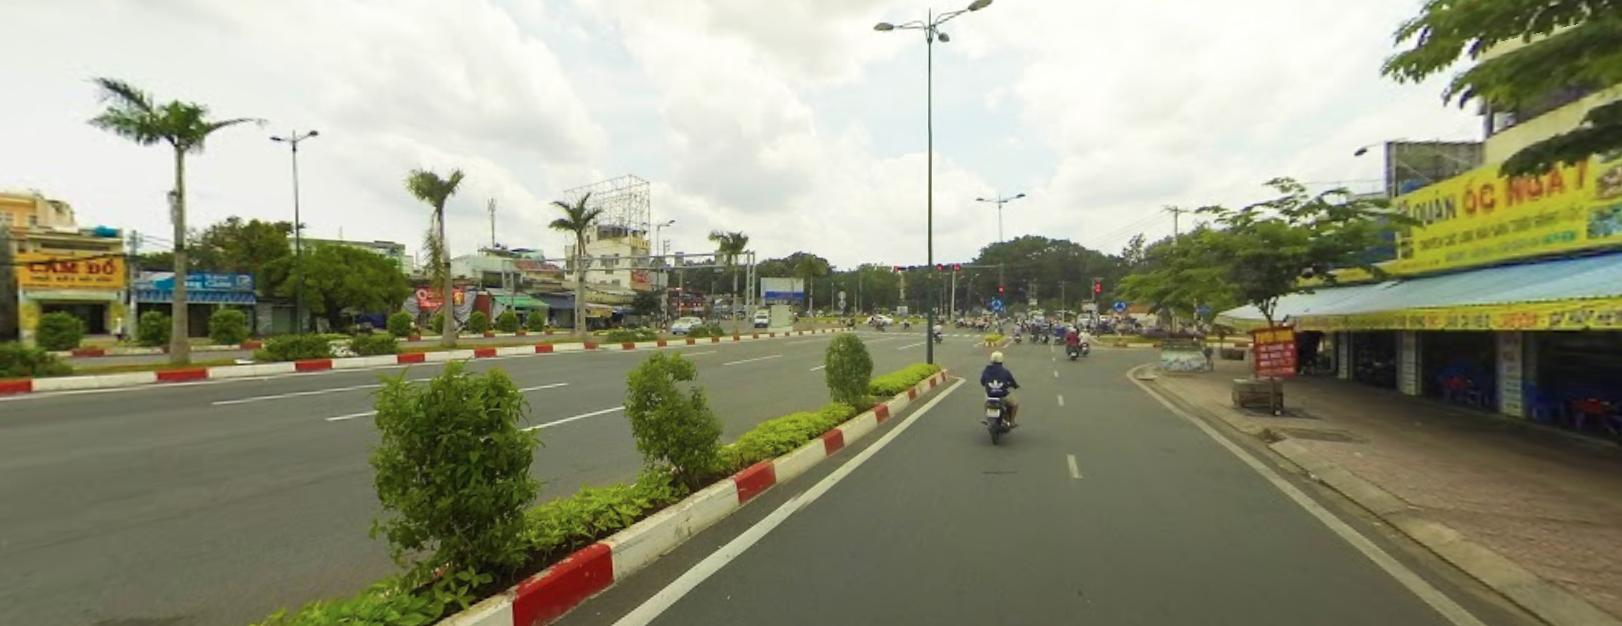Hieu lenh: (989, 295, 1003, 309), (1112, 298, 1127, 311)
